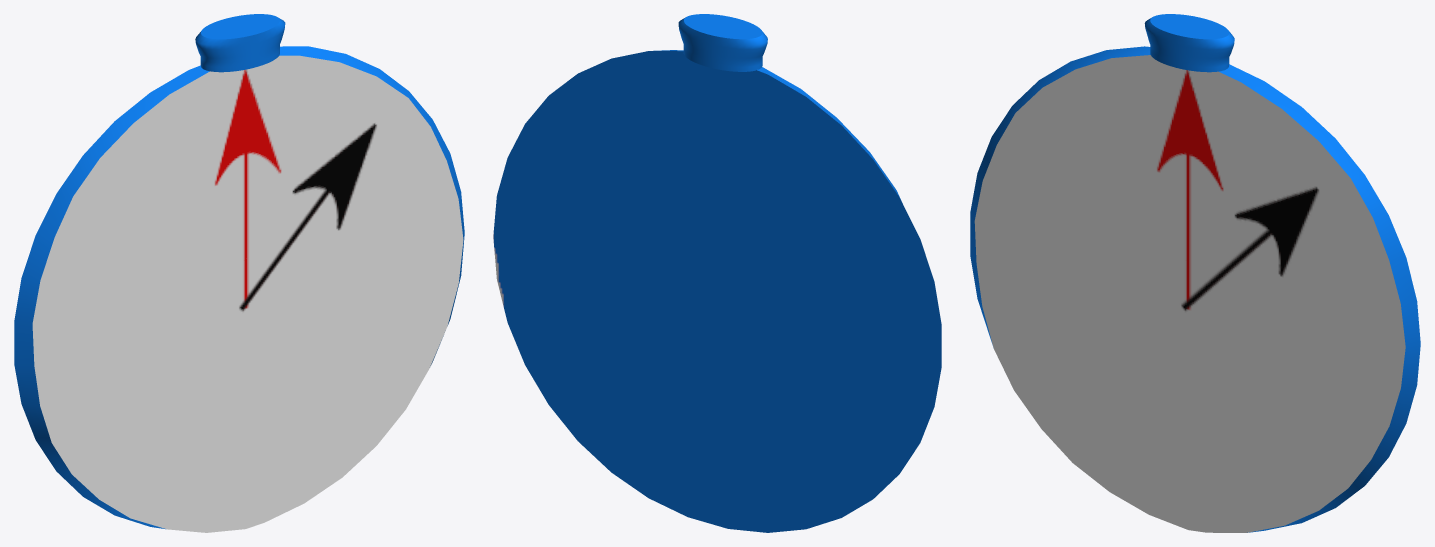
The model's file is _topwatch.fbx.
3 renders of one model, left to right at view 1: azimuth 30°, elevation 25°; view 2: azimuth 150°, elevation 25°; view 3: azimuth 330°, elevation 25°, orthographic.
Visible parts, largest first — view 1: Cylinder001; view 2: Cylinder001; view 3: Cylinder001.
Part boxes in pixels (x1,y1,x2,y2): Cylinder001: [14, 14, 464, 532]; Cylinder001: [493, 14, 941, 532]; Cylinder001: [970, 14, 1420, 532].
Bounding box in the file's own units: 65.04 × 69.01 × 5.95.
1 material, 1 textured.
